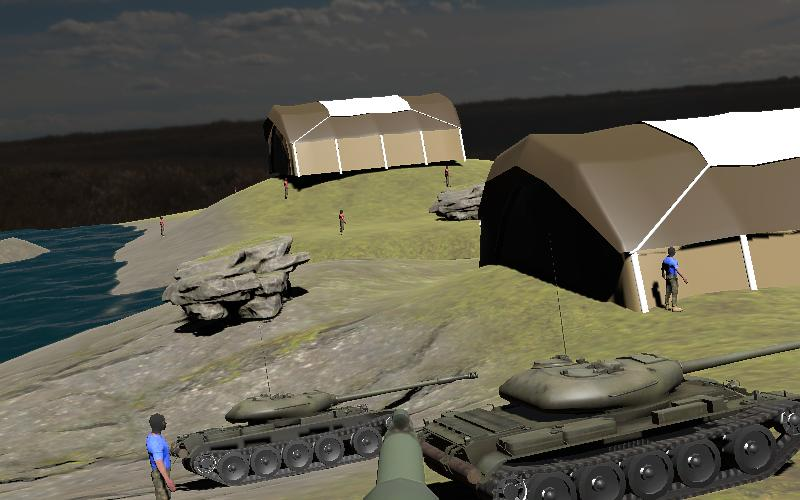Human: (144, 411, 180, 499), (659, 245, 690, 314), (336, 208, 349, 237)
Tank: (421, 329, 799, 500), (172, 370, 482, 488)
